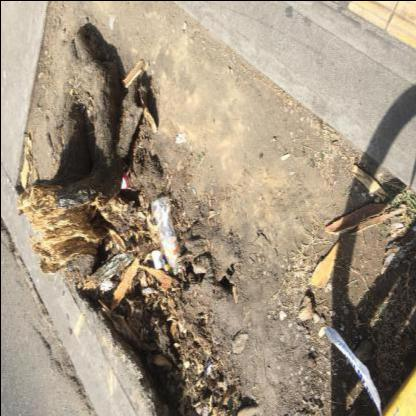Bottle cap: (151, 196, 179, 274)
Carton: (121, 171, 131, 188)
Cigarette: (192, 187, 196, 195)
Cup: (150, 250, 162, 268)
Paper: (204, 359, 214, 375)
Plastic bag - wrapper: (323, 325, 381, 415), (158, 258, 175, 276)
Straw: (126, 167, 130, 175)
